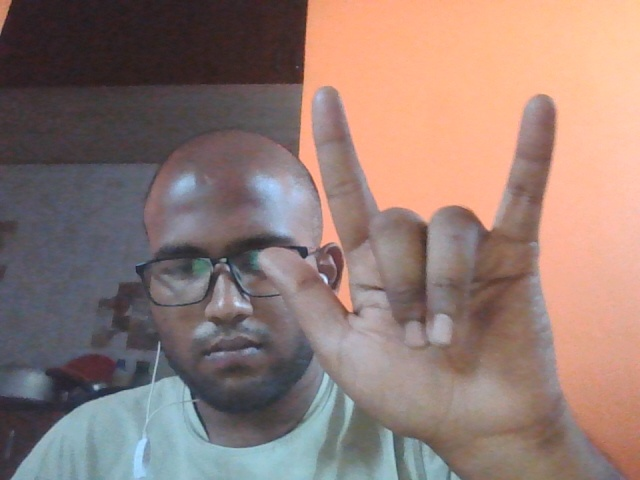iloveyou: (254, 66, 610, 480)
